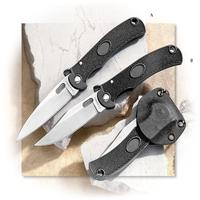knife: (16, 17, 181, 167)
